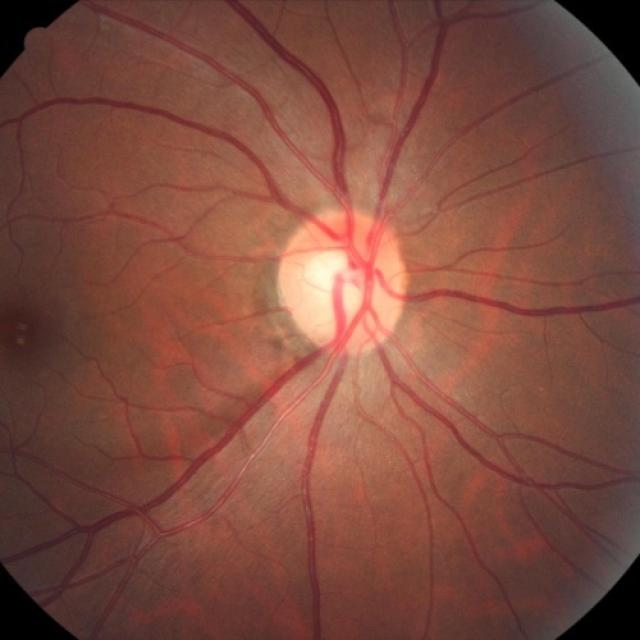OC: (308, 249, 367, 313)
OD: (279, 210, 408, 354)
